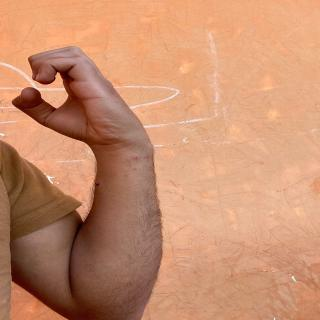JEEM: (3, 44, 165, 157)
